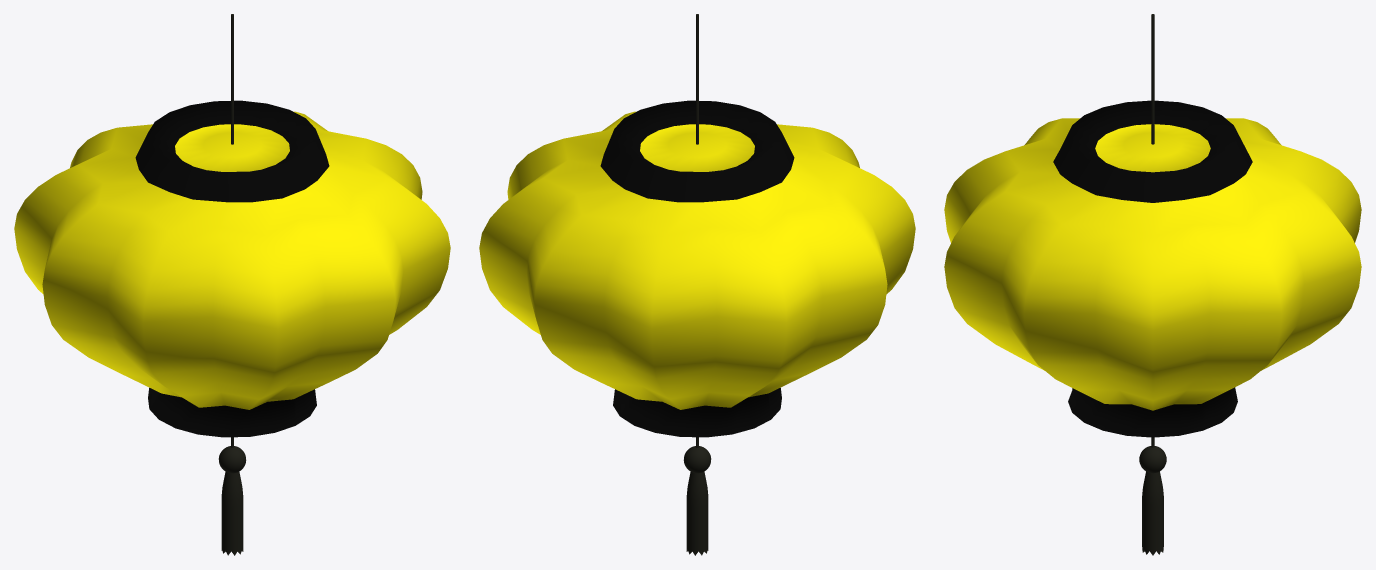
File: Lantern1.fbx
The picture shows the model from 3 angles, left to right: view 1: azimuth 30°, elevation 25°; view 2: azimuth 150°, elevation 25°; view 3: azimuth 270°, elevation 25°; orthographic projection.
Visible parts, largest first — view 1: Lantern1; view 2: Lantern1; view 3: Lantern1.
Part boxes in pixels (x1,y1,x2,y2): Lantern1: [14, 14, 450, 555]; Lantern1: [479, 14, 915, 555]; Lantern1: [944, 14, 1361, 555].
Size of the model in its own units: 4.21 by 5.69 by 4.01.
3 materials, 1 textured.
